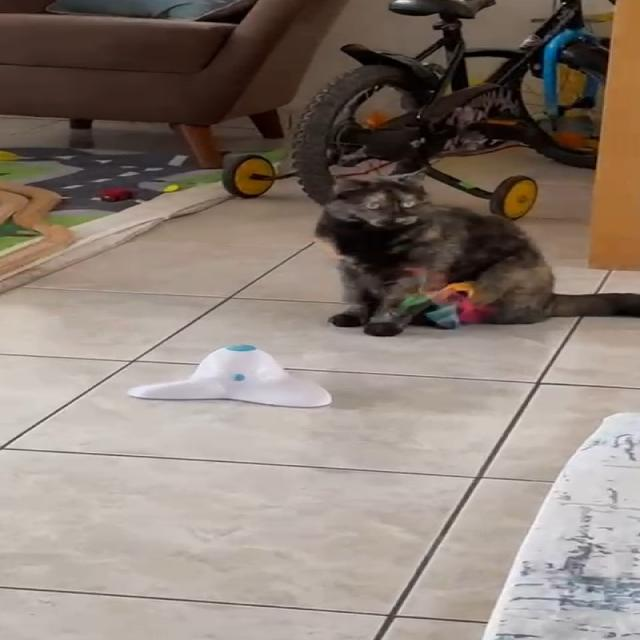authorized: (312, 172, 639, 336)
